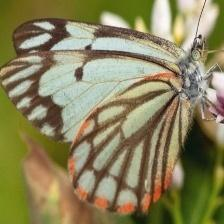butterfly: (0, 19, 207, 214)
